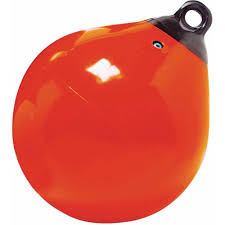buoy: (13, 18, 211, 223)
